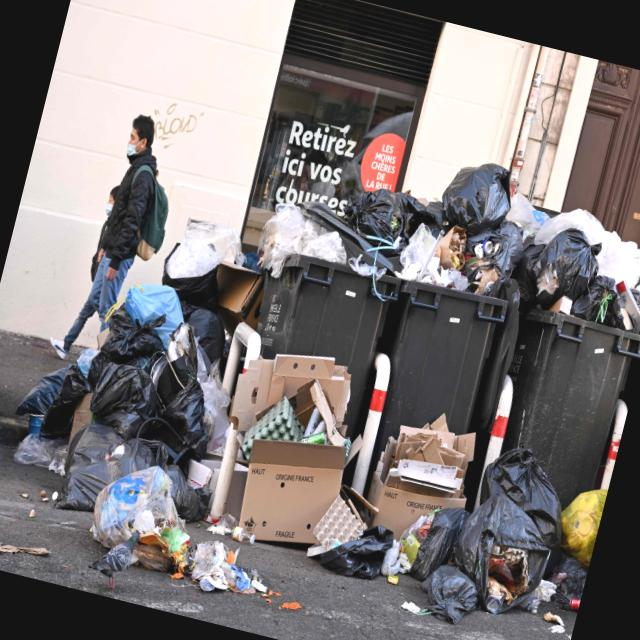garbage: (39, 80, 640, 640)
